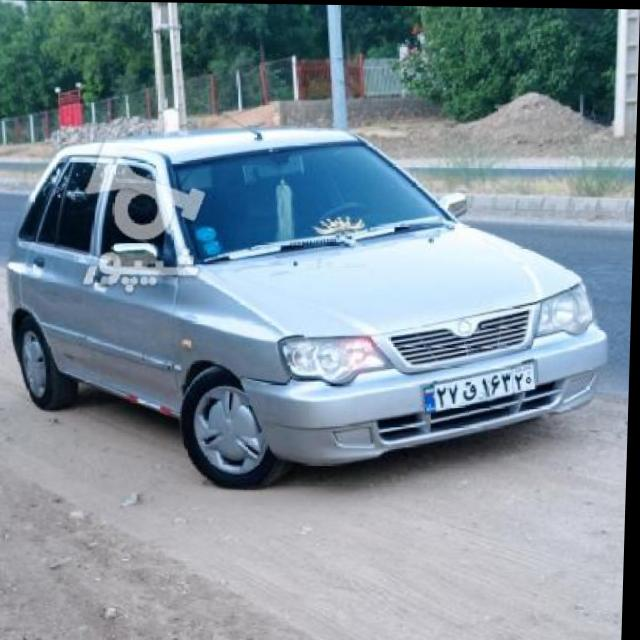licence: (424, 353, 541, 416)
